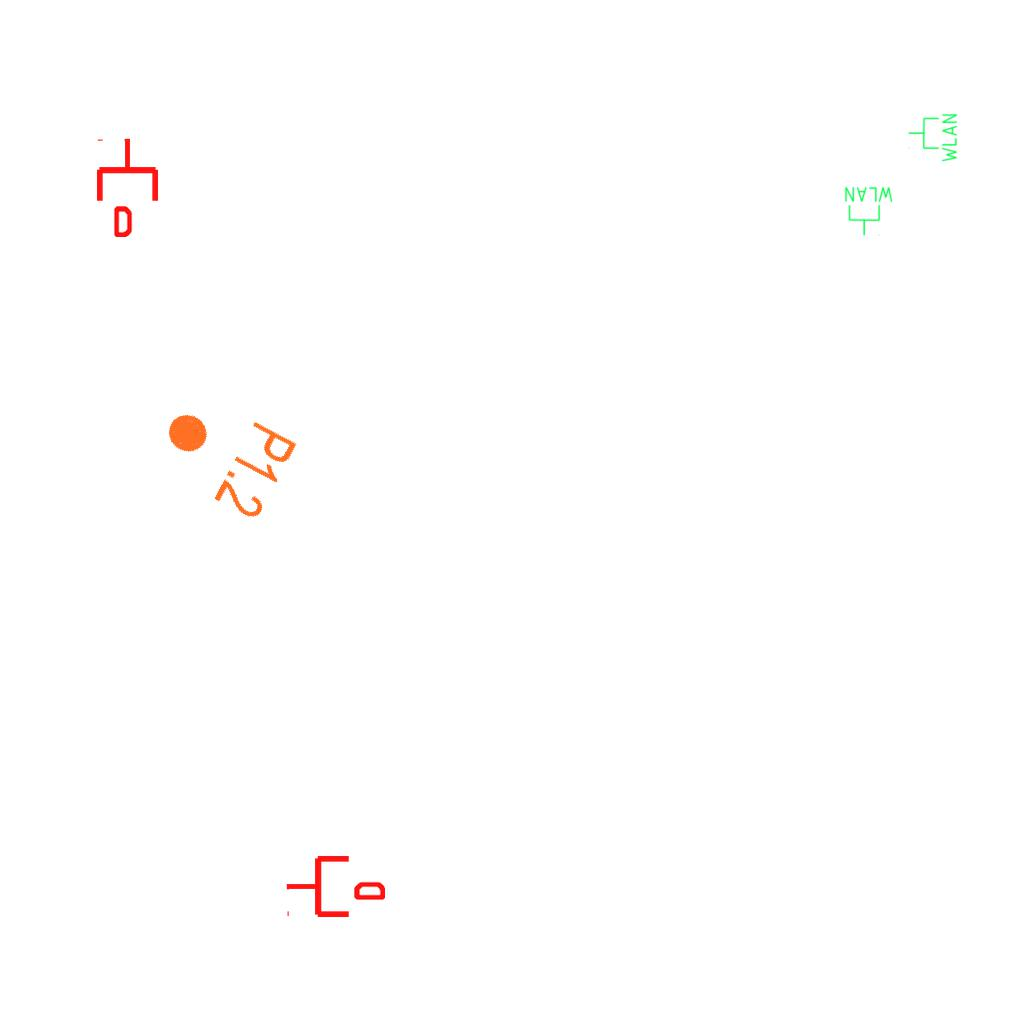Datenanschluss_einfach: (93, 137, 162, 237), (285, 852, 385, 921)
Downlight_LED_Einbauleuchten_Flur: (145, 382, 302, 526)
WLAN: (907, 112, 959, 164), (843, 185, 895, 237)
